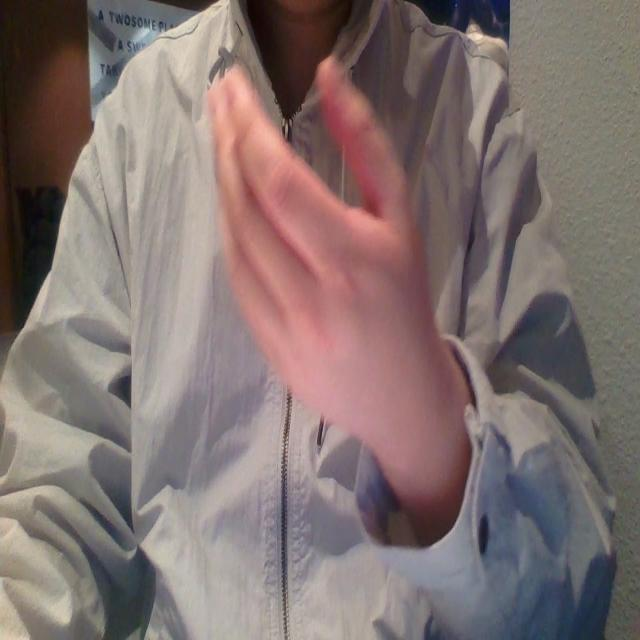hand: (196, 47, 465, 470)
